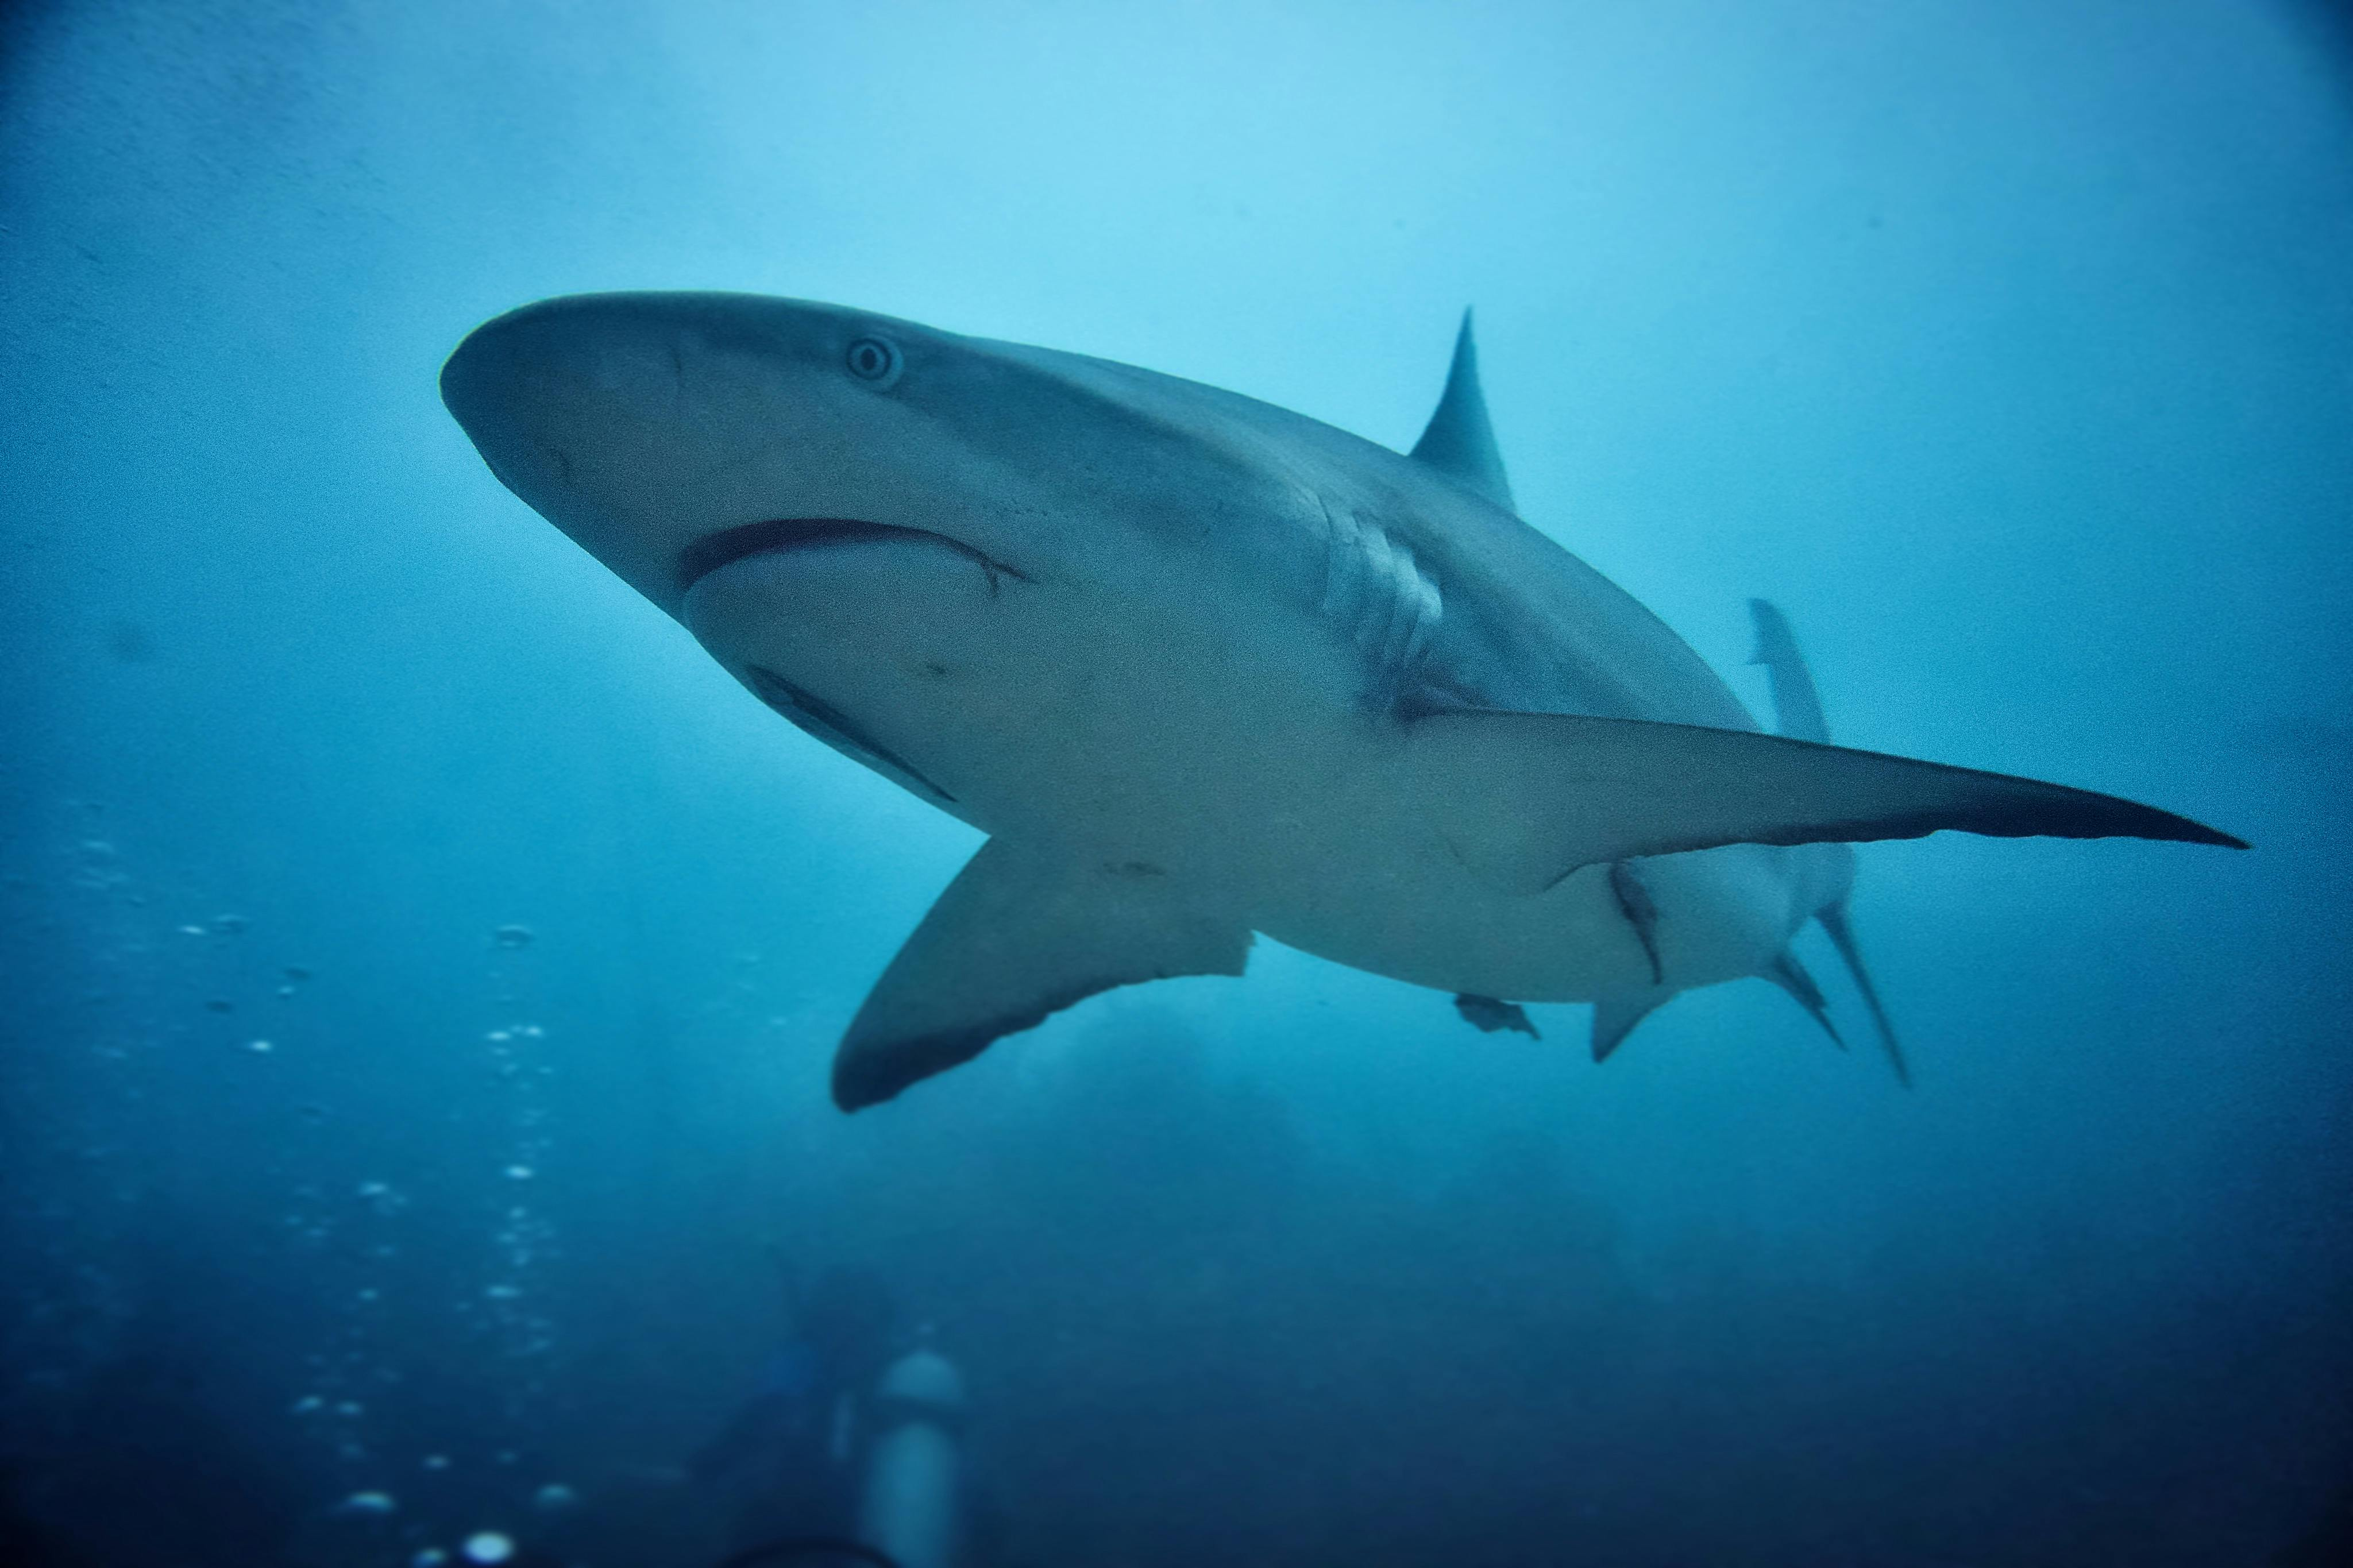shark: (434, 282, 2255, 1116)
